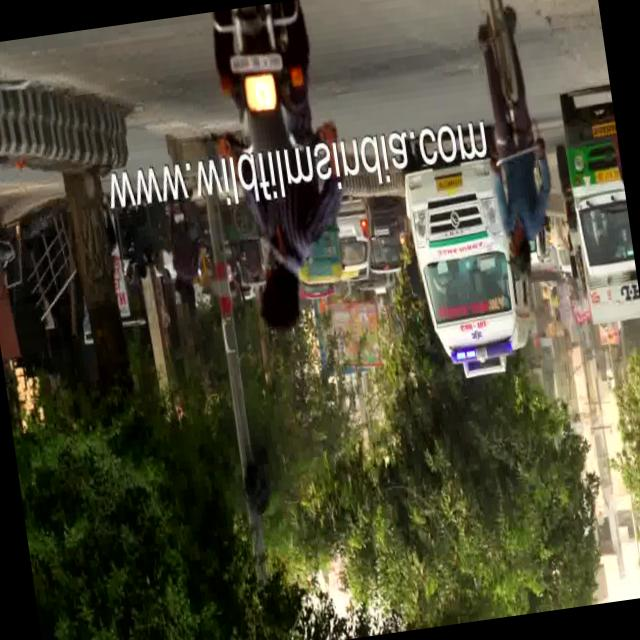ambulance: (402, 171, 533, 386)
